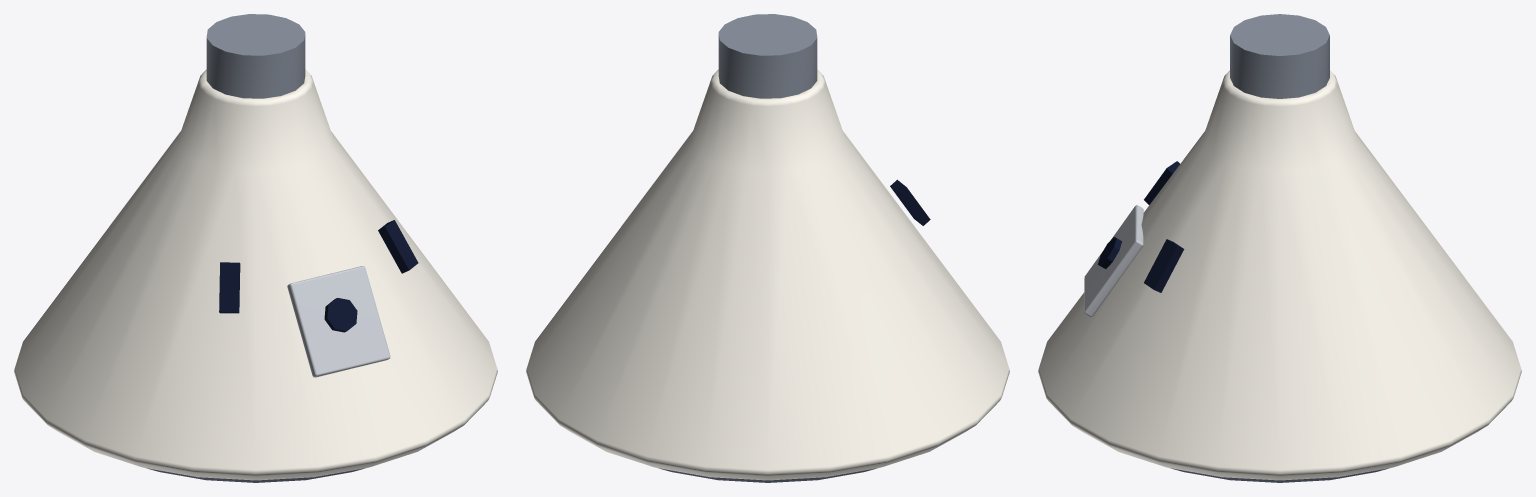
The model's file is Ship_CM.glb.
3 views of the same model, side by side, from view 1: azimuth 30°, elevation 25°; view 2: azimuth 150°, elevation 25°; view 3: azimuth 270°, elevation 25° (orthographic).
Parts seen in each view (by area): view 1: Ship_CM.Cone, Ship_CM.DockRing, Ship_CM.Hatch, Ship_CM.Window0, Ship_CM.Window1, Ship_CM.HatchWindow, Ship_CM.HeatShield; view 2: Ship_CM.Cone, Ship_CM.DockRing, Ship_CM.Window0, Ship_CM.HeatShield; view 3: Ship_CM.Cone, Ship_CM.DockRing, Ship_CM.Hatch, Ship_CM.Window1, Ship_CM.HeatShield.
Boxes of the visible parts, left/top/right/bottom form: Ship_CM.Cone: left=14, top=69, right=497, bottom=480; Ship_CM.DockRing: left=206, top=14, right=305, bottom=98; Ship_CM.Hatch: left=287, top=266, right=390, bottom=377; Ship_CM.Window0: left=219, top=262, right=240, bottom=313; Ship_CM.Window1: left=378, top=220, right=418, bottom=273; Ship_CM.HatchWindow: left=324, top=298, right=357, bottom=332; Ship_CM.HeatShield: left=147, top=468, right=364, bottom=482; Ship_CM.Cone: left=526, top=69, right=1009, bottom=480; Ship_CM.DockRing: left=718, top=14, right=817, bottom=98; Ship_CM.Window0: left=890, top=179, right=930, bottom=225; Ship_CM.HeatShield: left=659, top=468, right=876, bottom=482; Ship_CM.Cone: left=1038, top=70, right=1521, bottom=480; Ship_CM.DockRing: left=1230, top=14, right=1329, bottom=98; Ship_CM.Hatch: left=1084, top=205, right=1143, bottom=317; Ship_CM.Window1: left=1144, top=239, right=1184, bottom=292; Ship_CM.HeatShield: left=1171, top=468, right=1388, bottom=482.
Bounding box in the file's own units: 3.88 × 3.45 × 3.88.
1 material, 1 textured.
